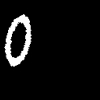chain: (5, 15, 30, 65)
